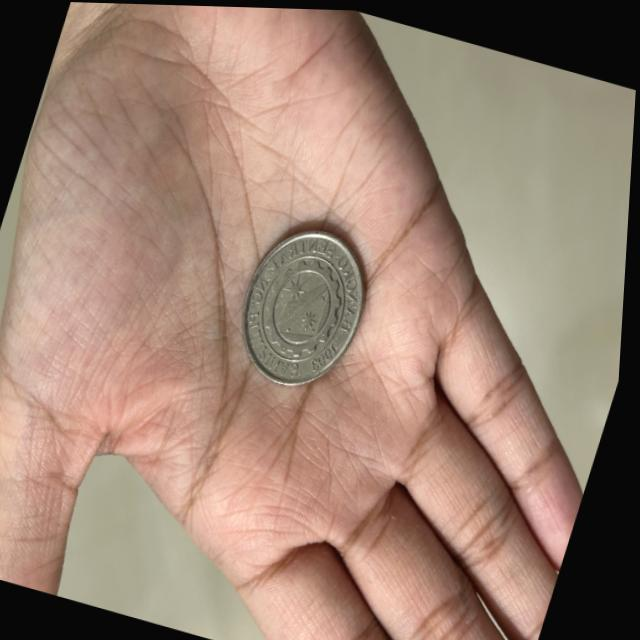1_Old_Back: (249, 237, 362, 370)
